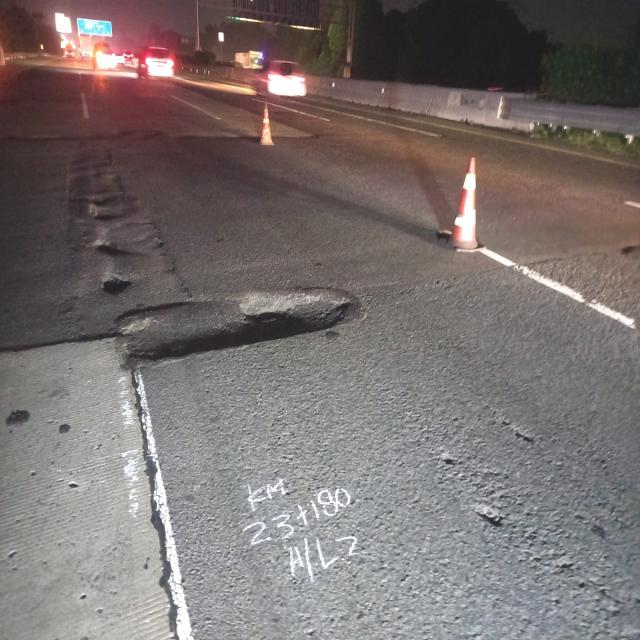Buraco: (116, 289, 357, 364), (97, 272, 138, 298), (90, 239, 136, 261), (89, 211, 120, 223), (617, 243, 640, 257), (89, 198, 111, 208)
